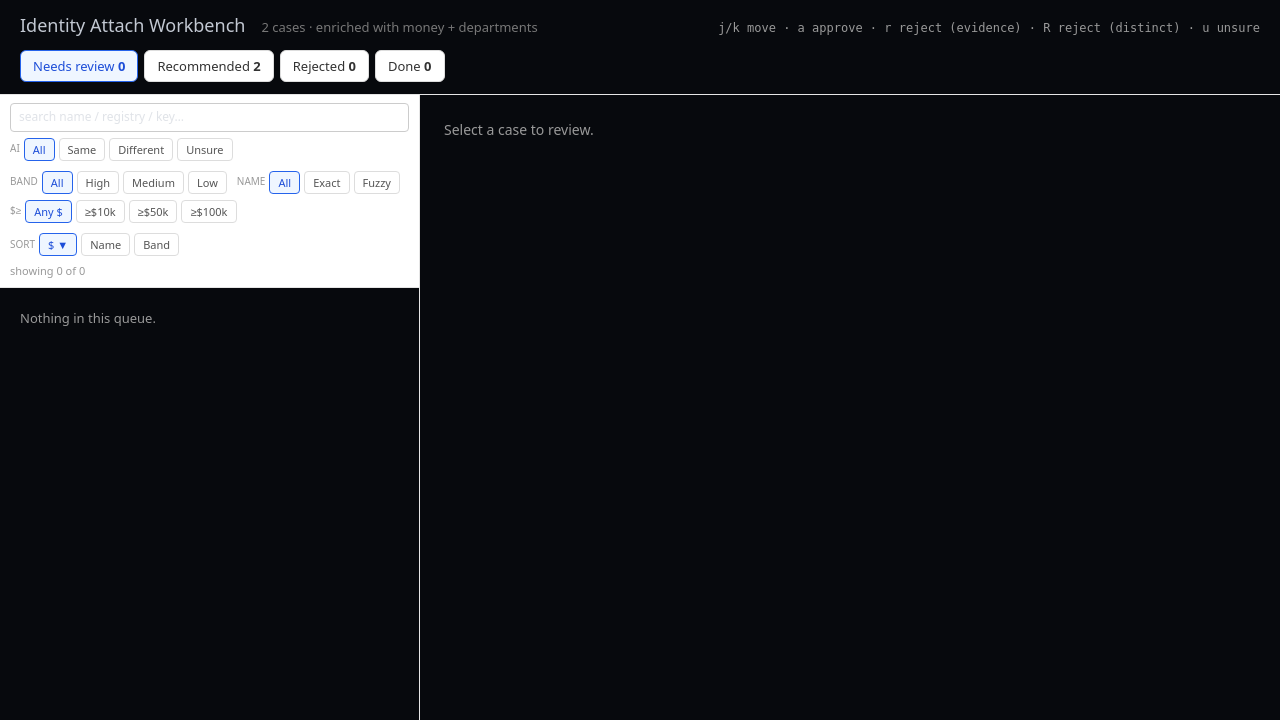
Test: Bench › gates bulk approval behind a typed confirmation of the exact count
Click the button with test id "tab-recommended". click: (209, 66)
box: left=144, top=50, right=274, bottom=82
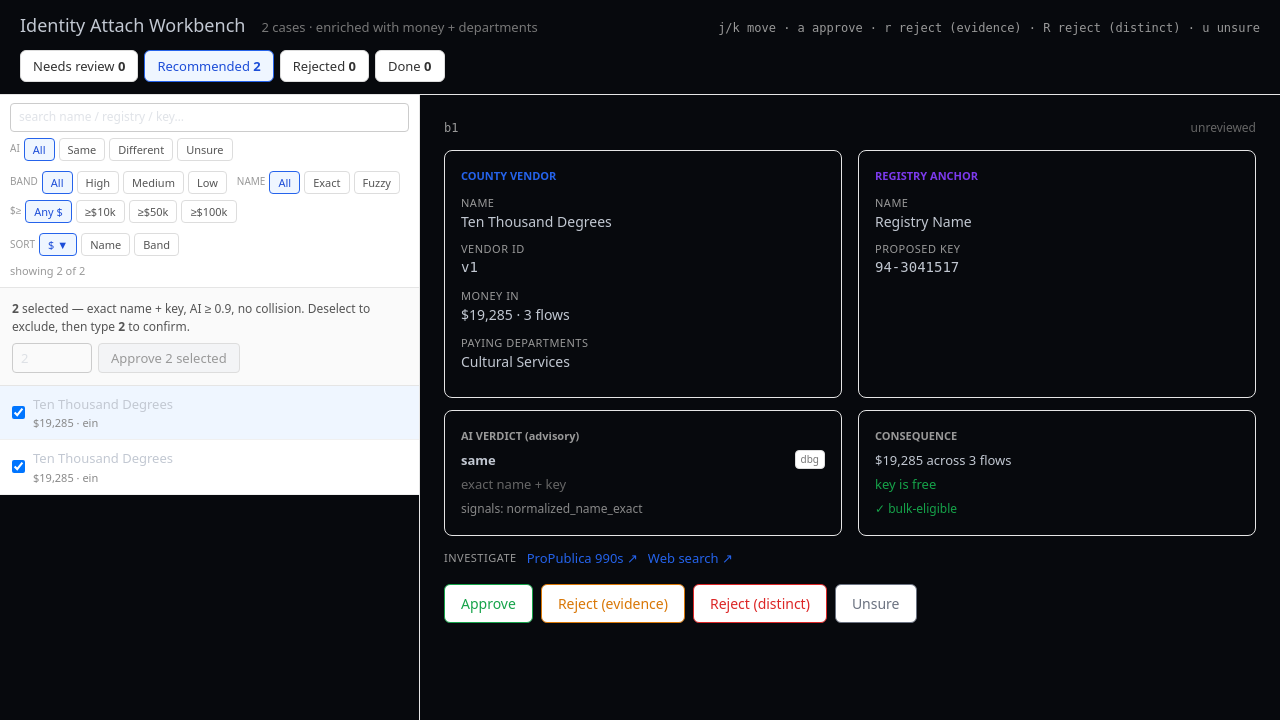
Expected: the button with test id "bulk-approve" is disabled, left=98, top=343, right=240, bottom=373
wrong count keeps it disabled
Type "1" into the field with test id "bulk-confirm". click: (52, 358)
box: left=12, top=343, right=92, bottom=373
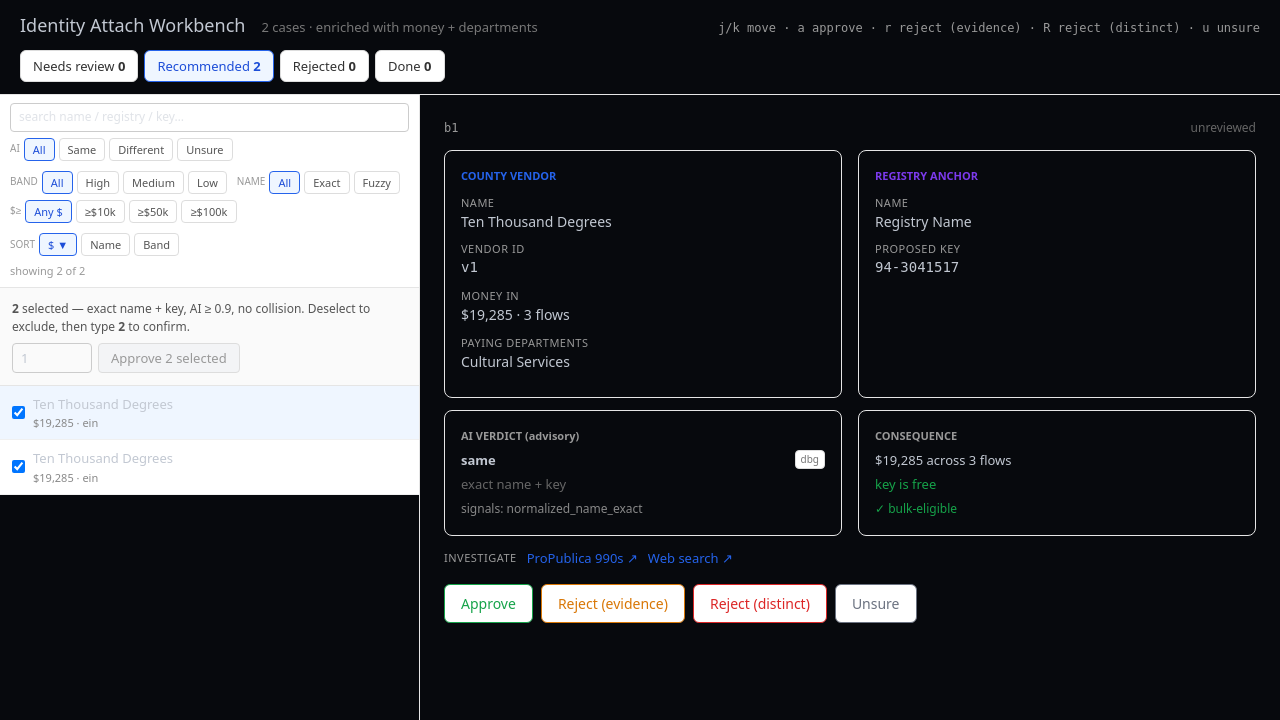
Expected: the button with test id "bulk-approve" is disabled, left=98, top=343, right=240, bottom=373
Replace the text in the field with test id "bulk-confirm" with "2". click: (52, 358)
box: left=12, top=343, right=92, bottom=373
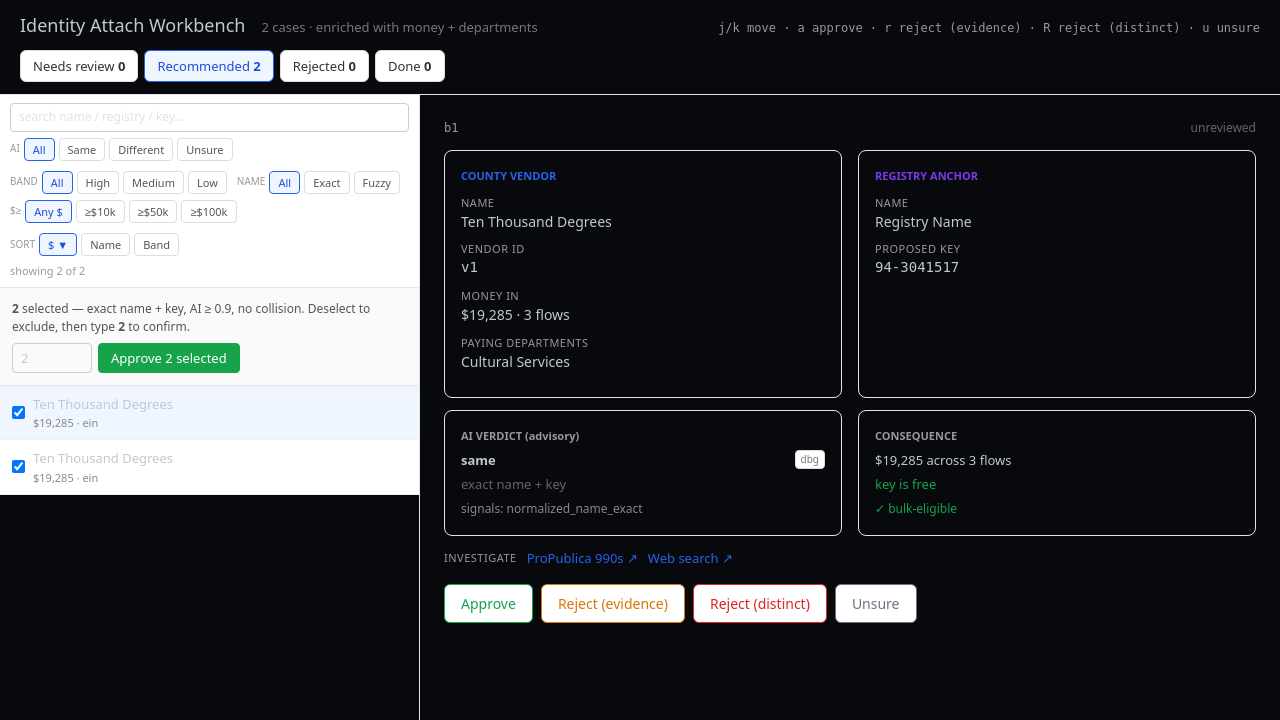
Expected: the button with test id "bulk-approve" is enabled
Click the button with test id "bulk-approve". click: (169, 358)
box: left=98, top=343, right=240, bottom=373
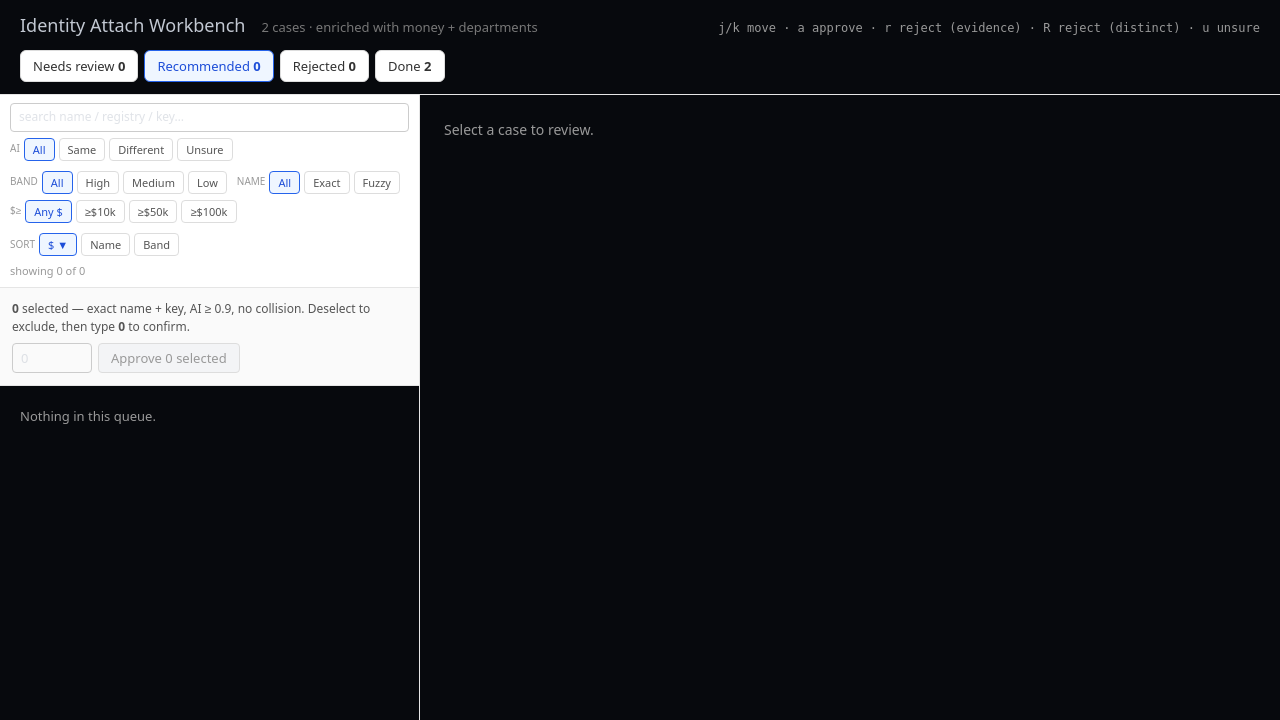
Expected: the button with test id "tab-done" shows "2", left=375, top=50, right=445, bottom=82
